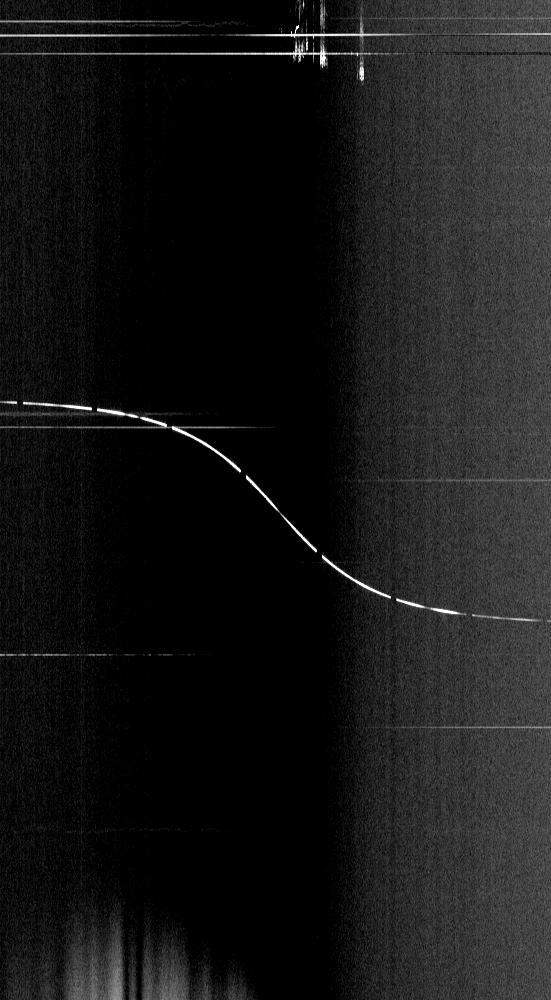signal: (0, 0, 550, 999)
